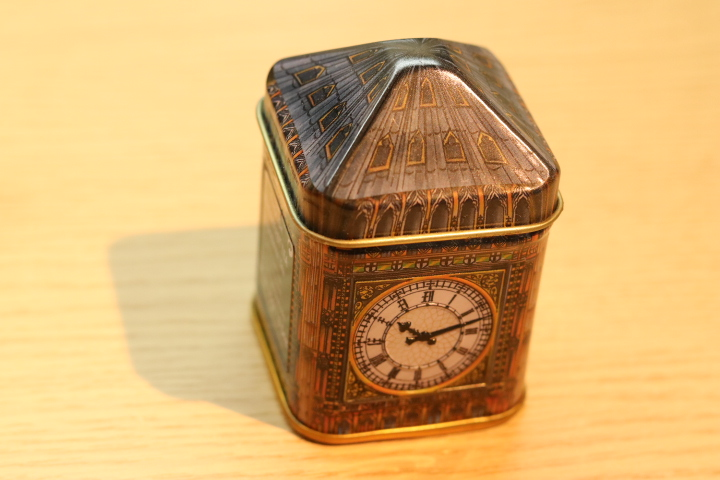Big Ben: (217, 21, 585, 467)
